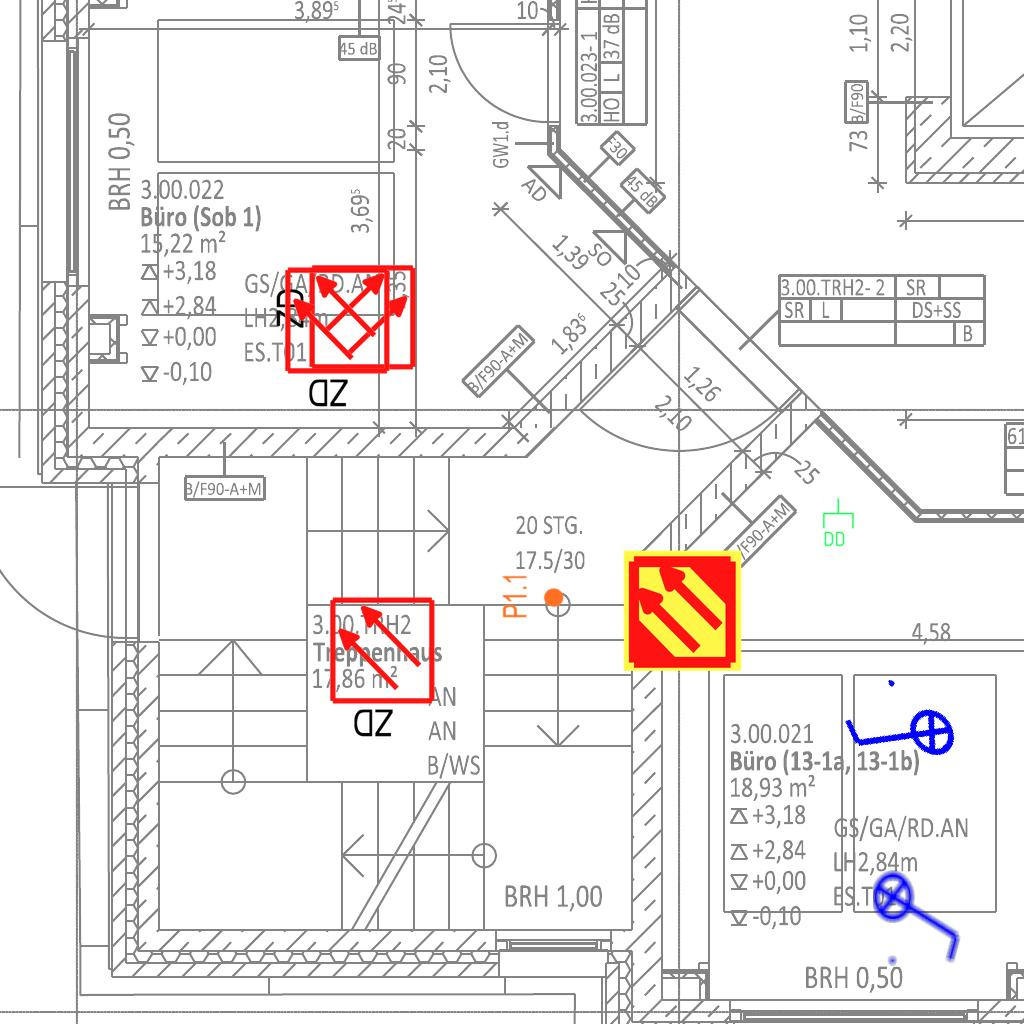ASR_Ansaugrauchmelder: (620, 548, 745, 673)
Ausschalter_beleuchtet: (828, 662, 974, 810), (871, 858, 967, 970)
Datenanschluss_zweifach: (821, 497, 855, 548)
Downlight_LED_Einbauleuchten_Flur: (501, 573, 565, 619)
ZD_Melder_in_Zwischendecke_mit_Revisionsoeffnung_mind_40_x_40_cm: (269, 262, 418, 376), (327, 595, 441, 744), (282, 265, 396, 414)
